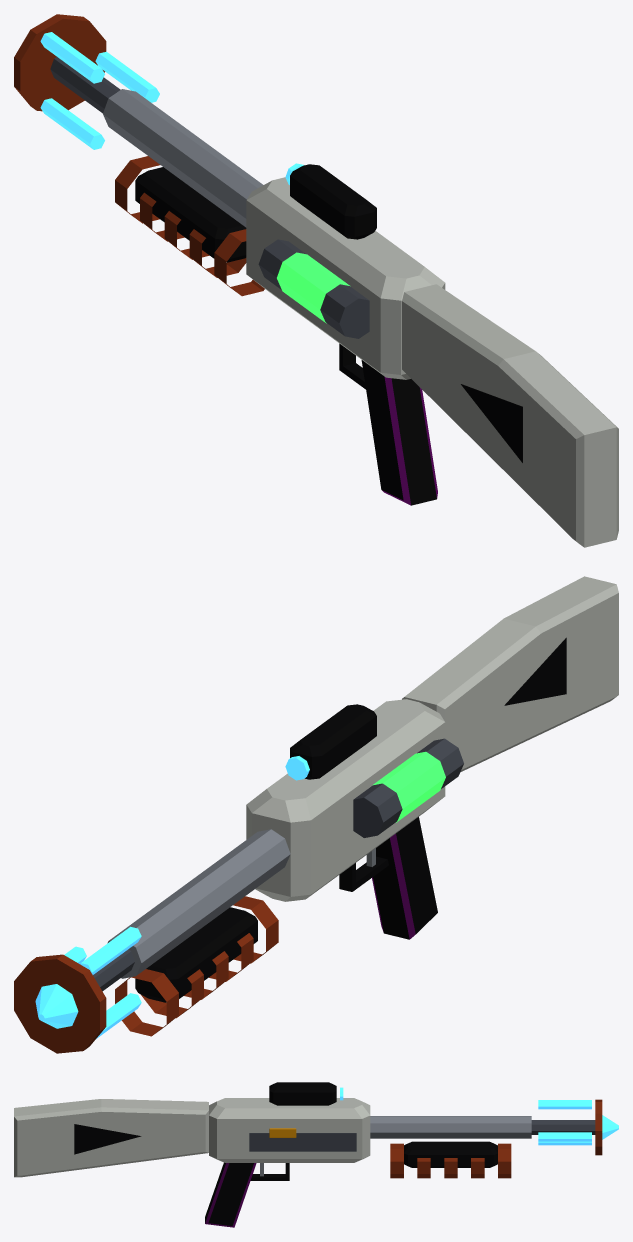
Rendered from SM_Wep_TeslaRifle.glb.
3 views of the same model, one above another, from view 1: azimuth 30°, elevation 25°; view 2: azimuth 150°, elevation 25°; view 3: azimuth 270°, elevation 25° (orthographic). The views are drawn at different scales.
Visible parts, largest first — view 1: SM_Wep_TeslaRifle, SM_Wep_TeslaRifle_Coil; view 2: SM_Wep_TeslaRifle, SM_Wep_TeslaRifle_Coil; view 3: SM_Wep_TeslaRifle, SM_Wep_TeslaRifle_Coil.
Part boxes in pixels (<box>): SM_Wep_TeslaRifle: <box>103,89,618,547</box>; SM_Wep_TeslaRifle_Coil: <box>14,14,159,149</box>; SM_Wep_TeslaRifle: <box>107,576,618,1036</box>; SM_Wep_TeslaRifle_Coil: <box>14,926,141,1053</box>; SM_Wep_TeslaRifle: <box>14,1082,531,1227</box>; SM_Wep_TeslaRifle_Coil: <box>531,1099,618,1155</box>.
Bounding box in the file's own units: 0.0995 × 0.229 × 0.9.
1 material, 1 textured.
